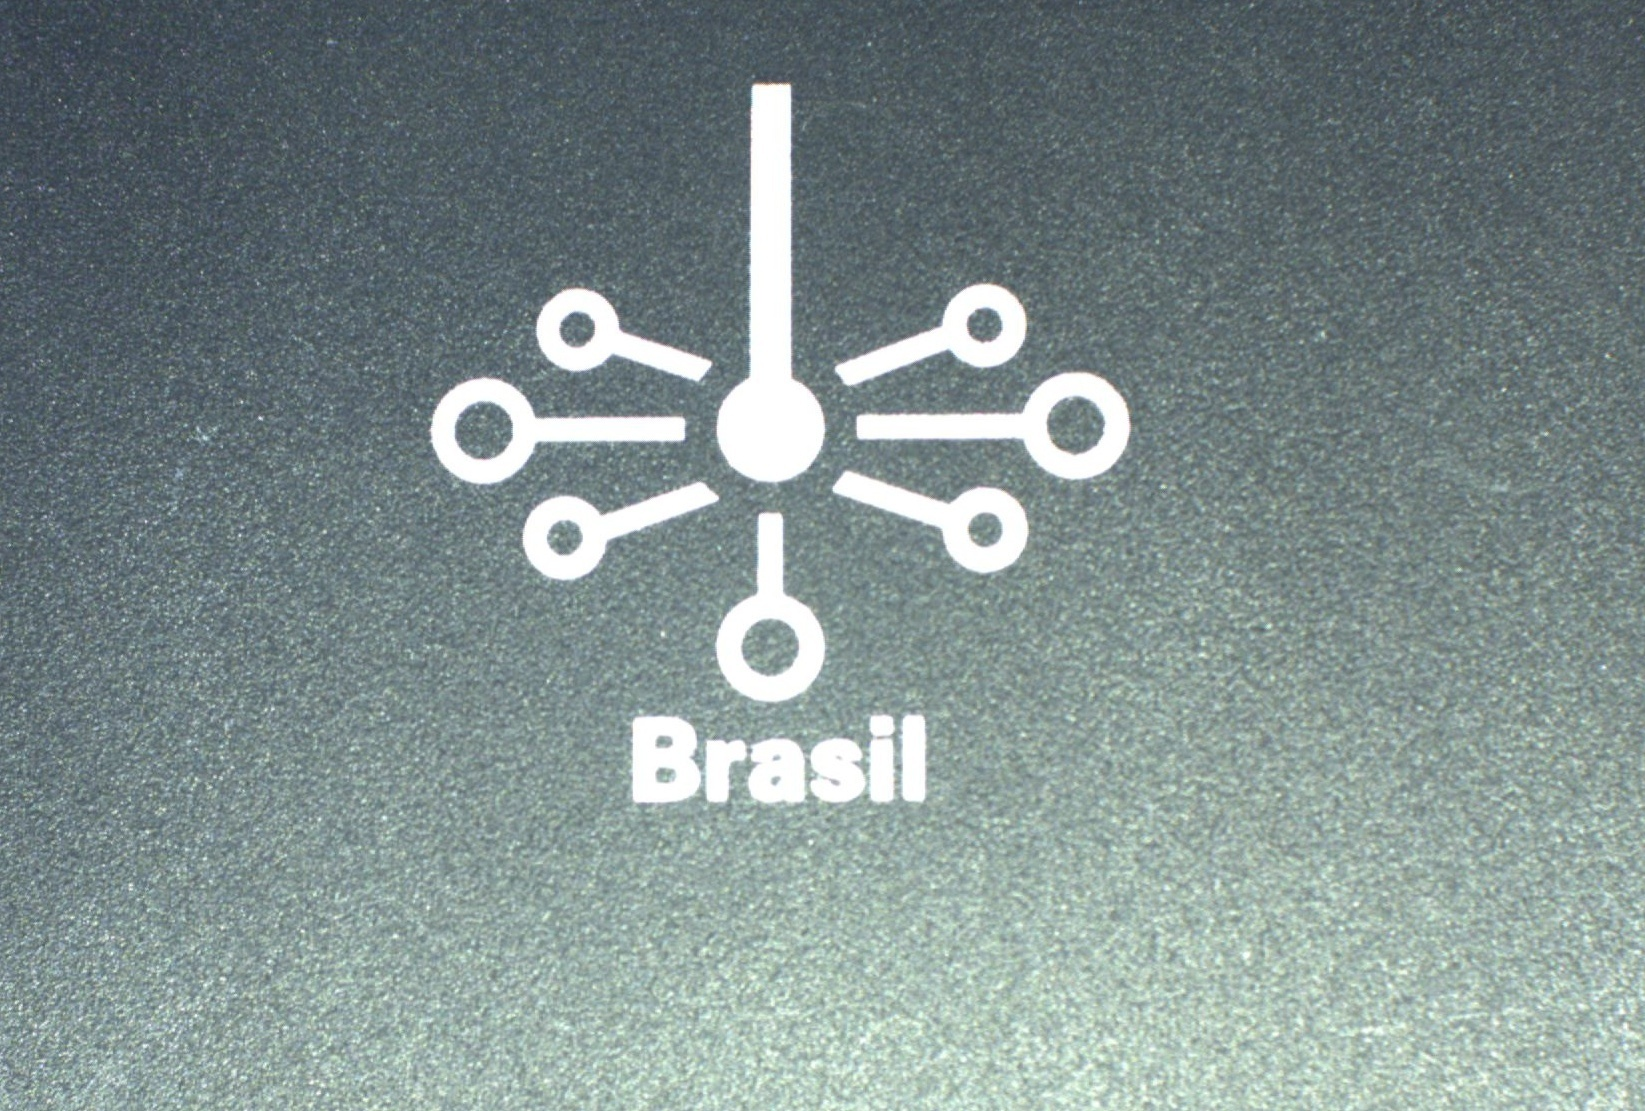BO_Brsail: (423, 77, 1138, 820)
